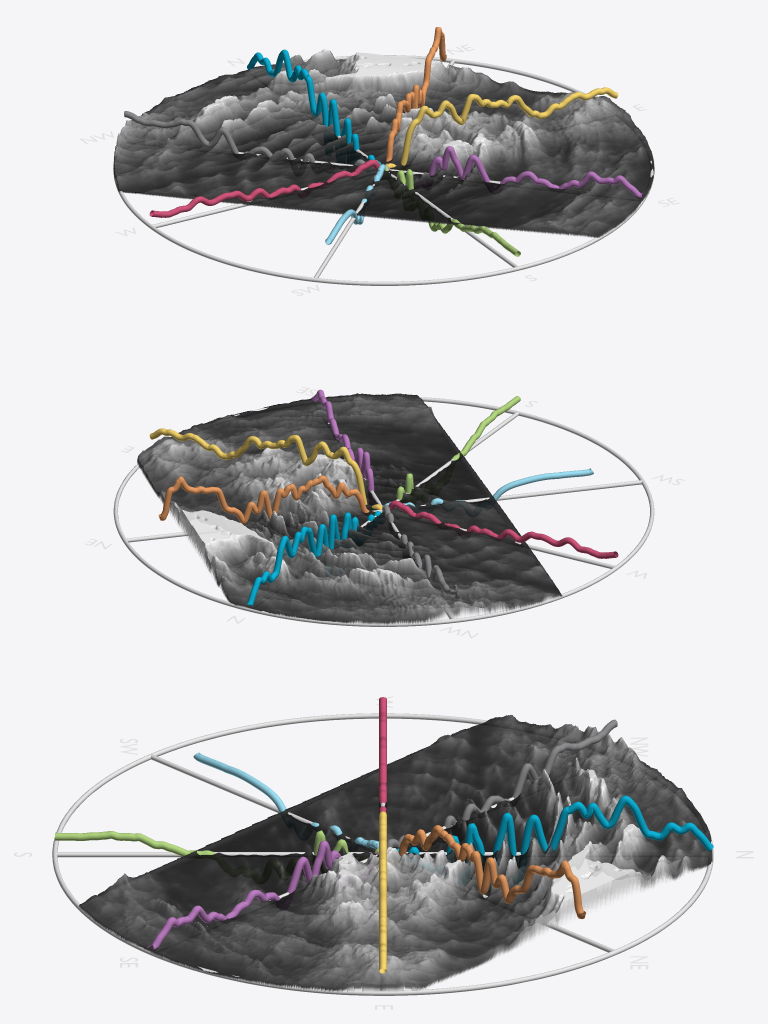
The model's file is AWE_radial_profiles-May26.opt.glb.
3 views of the same model, one above another, from view 1: azimuth 30°, elevation 25°; view 2: azimuth 150°, elevation 25°; view 3: azimuth 270°, elevation 25° (orthographic). The views are drawn at different scales.
Parts seen in each view (by area): view 1: ProjectedDataPlane, Axis_E_Mesh; view 2: ProjectedDataPlane, Axis_E_Mesh; view 3: ProjectedDataPlane, Axis_E_Mesh.
Boxes of the visible parts, x1,y1,x2,y2 form: ProjectedDataPlane: (113,49,654,237); Axis_E_Mesh: (80,27,679,295); ProjectedDataPlane: (137,393,562,624); Axis_E_Mesh: (84,386,684,638); ProjectedDataPlane: (79,715,712,991); Axis_E_Mesh: (14,696,753,1009).
Bounding box in the file's own units: 1.13 × 0.1829 × 1.13.
Materials: 2 (2 with a texture image).
